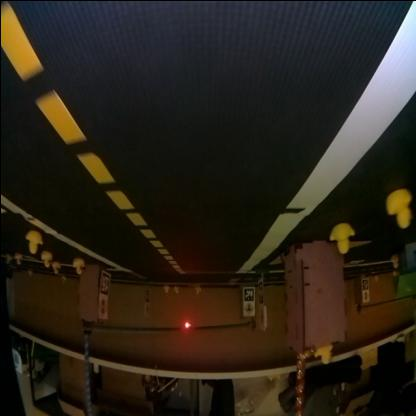Duckie: (385, 189, 411, 228), (328, 223, 354, 254), (24, 230, 42, 254), (312, 346, 332, 364), (72, 257, 84, 273), (40, 250, 50, 266), (50, 261, 59, 274), (13, 254, 21, 264), (172, 286, 178, 294), (4, 254, 10, 262), (194, 286, 199, 294), (162, 286, 166, 293)
Intersection sign: (242, 304, 251, 315)
QR code: (100, 272, 110, 294), (242, 287, 253, 301), (258, 284, 264, 304), (361, 280, 367, 290)
Signal sign: (97, 297, 106, 318)
Traffic light: (182, 320, 189, 328)
